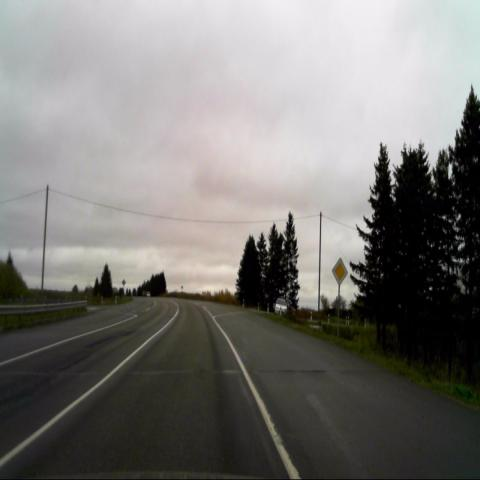2_1: (331, 256, 348, 286)
